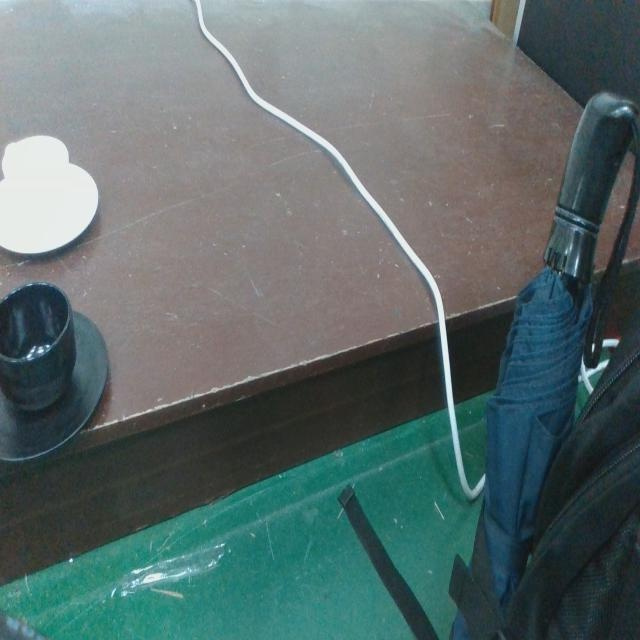black: (0, 277, 113, 472)
white: (0, 132, 100, 258)
